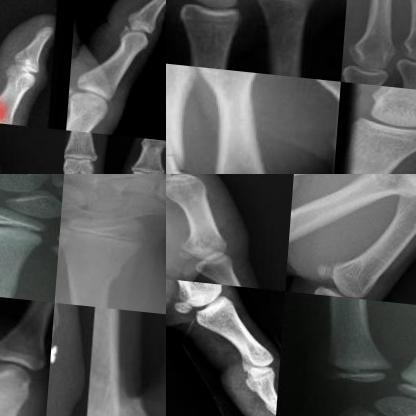fracture: (61, 211, 163, 250), (166, 64, 197, 172), (166, 174, 189, 205)
